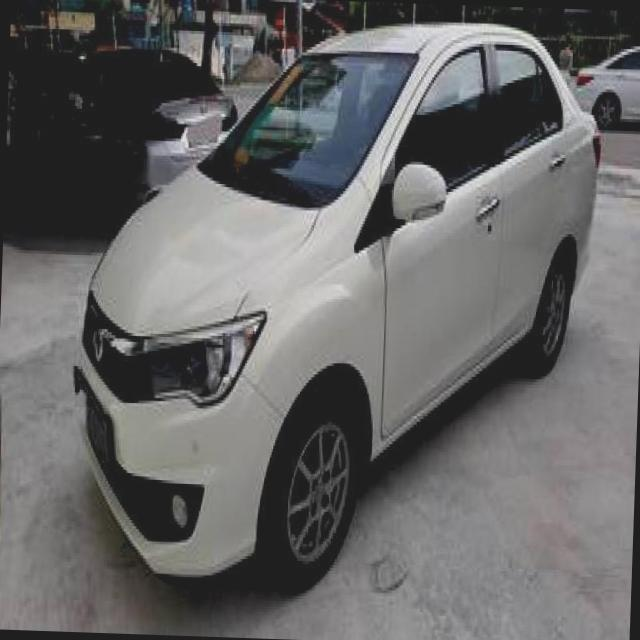PeroduaBezza: (64, 7, 606, 604)
